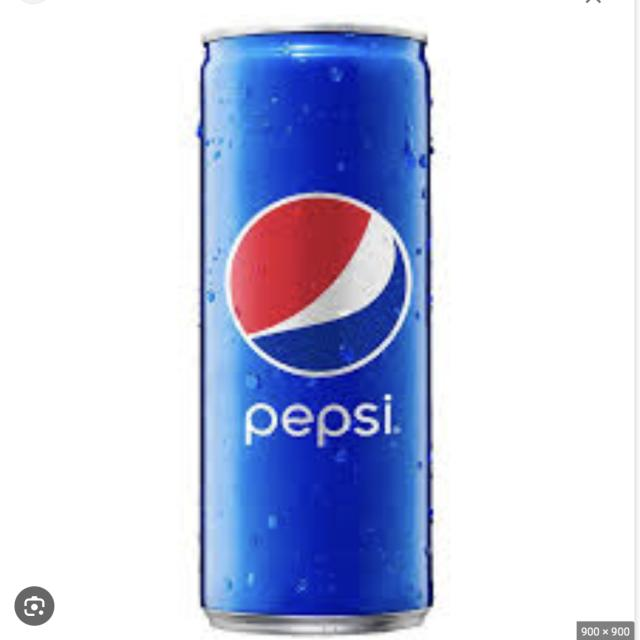recyclable: (180, 12, 450, 640)
